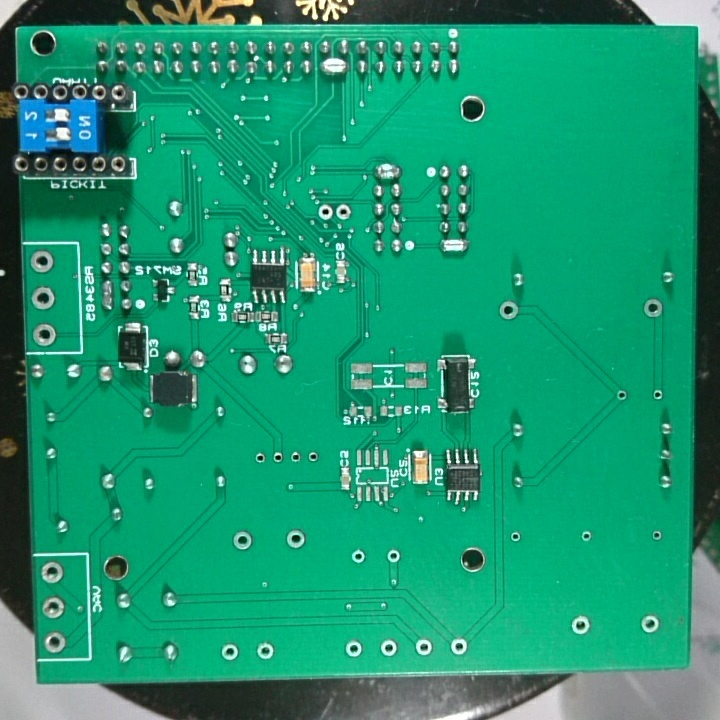F: (28, 283, 59, 311), (31, 321, 60, 349), (28, 247, 55, 275), (37, 560, 67, 585), (41, 593, 69, 618), (43, 628, 68, 655), (284, 527, 308, 554), (569, 612, 593, 638), (637, 612, 663, 635), (642, 295, 664, 322), (231, 528, 253, 555), (254, 639, 278, 662), (448, 635, 471, 658), (412, 635, 434, 659), (495, 300, 519, 321), (333, 200, 354, 223), (343, 636, 363, 660), (378, 636, 398, 659), (219, 643, 239, 663), (303, 446, 321, 468), (348, 546, 367, 566), (251, 449, 270, 469), (268, 448, 287, 467), (316, 201, 334, 221), (287, 446, 304, 467), (385, 547, 401, 567), (579, 526, 593, 546), (649, 526, 663, 545), (508, 526, 522, 545), (613, 386, 627, 403), (651, 386, 664, 403)
P: (319, 55, 348, 77), (371, 160, 402, 180), (439, 236, 469, 255), (99, 277, 114, 312)
